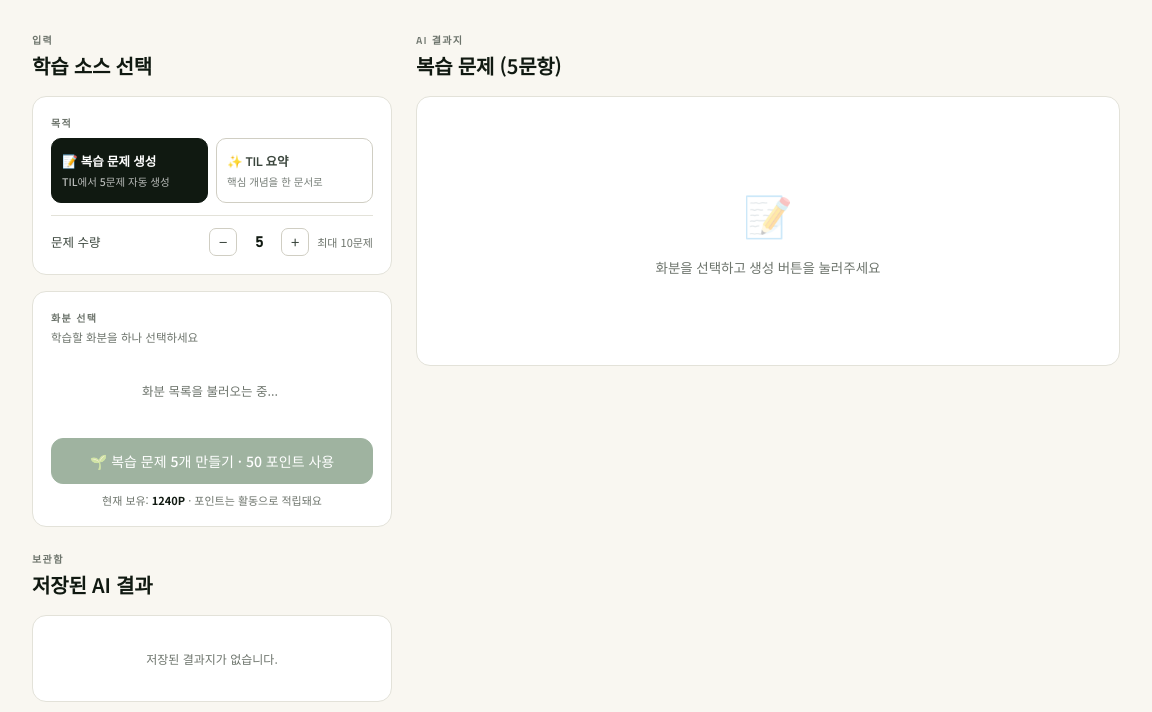
Scenario: 복습 문제 수량 스텝퍼 › - 버튼을 누르면 수량이 감소한다
Step 1. Click the button "−" → (223, 242), box [209, 228, 237, 256]
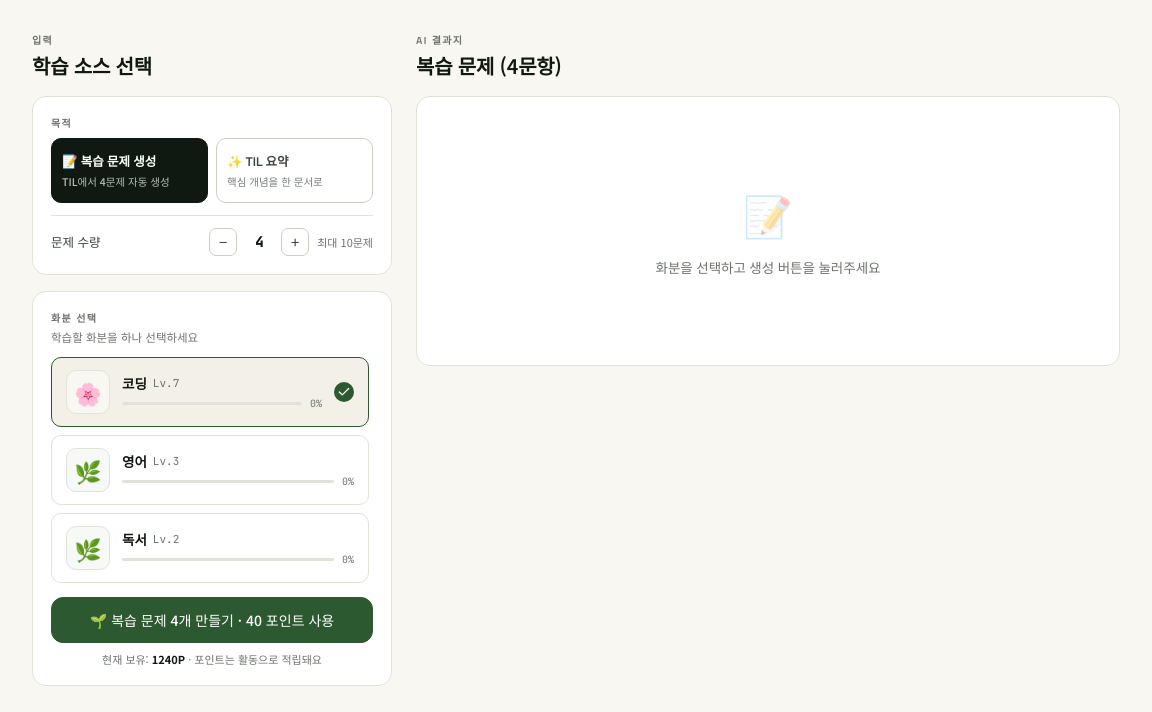
Check: the text "4" is shown, box [255, 233, 263, 251]
